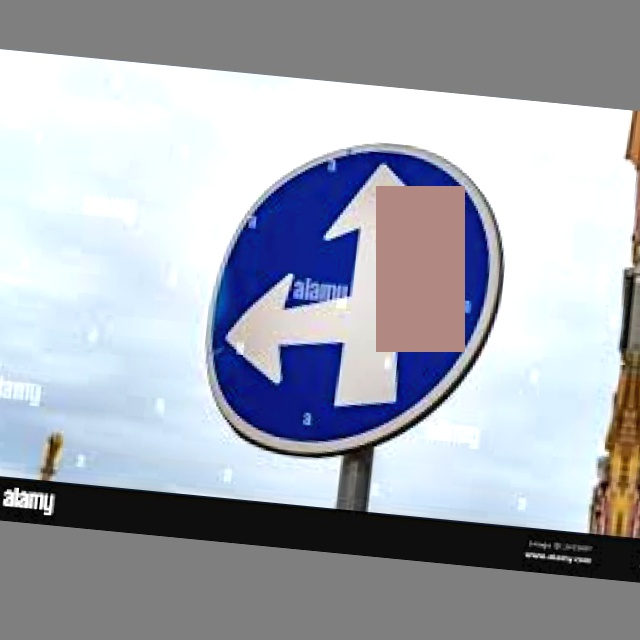Compulsory_Ahead_or_Turn_Left: (204, 131, 510, 465)
